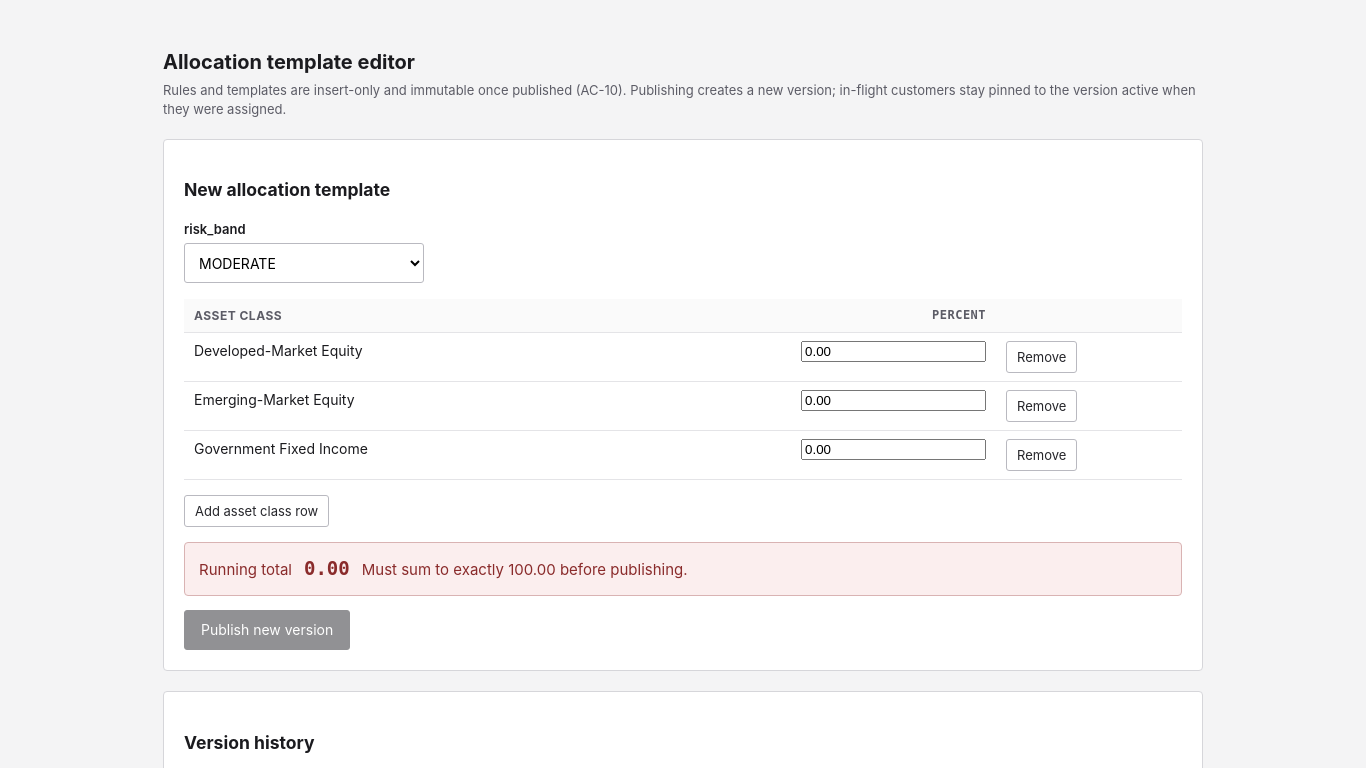
TemplateEditor › publishing a new version refreshes the version-history list via state update, without navigation
Replace the text in the field with test id "allocation-percent-0" with "100.00" at (894, 352), box [801,342,986,362]
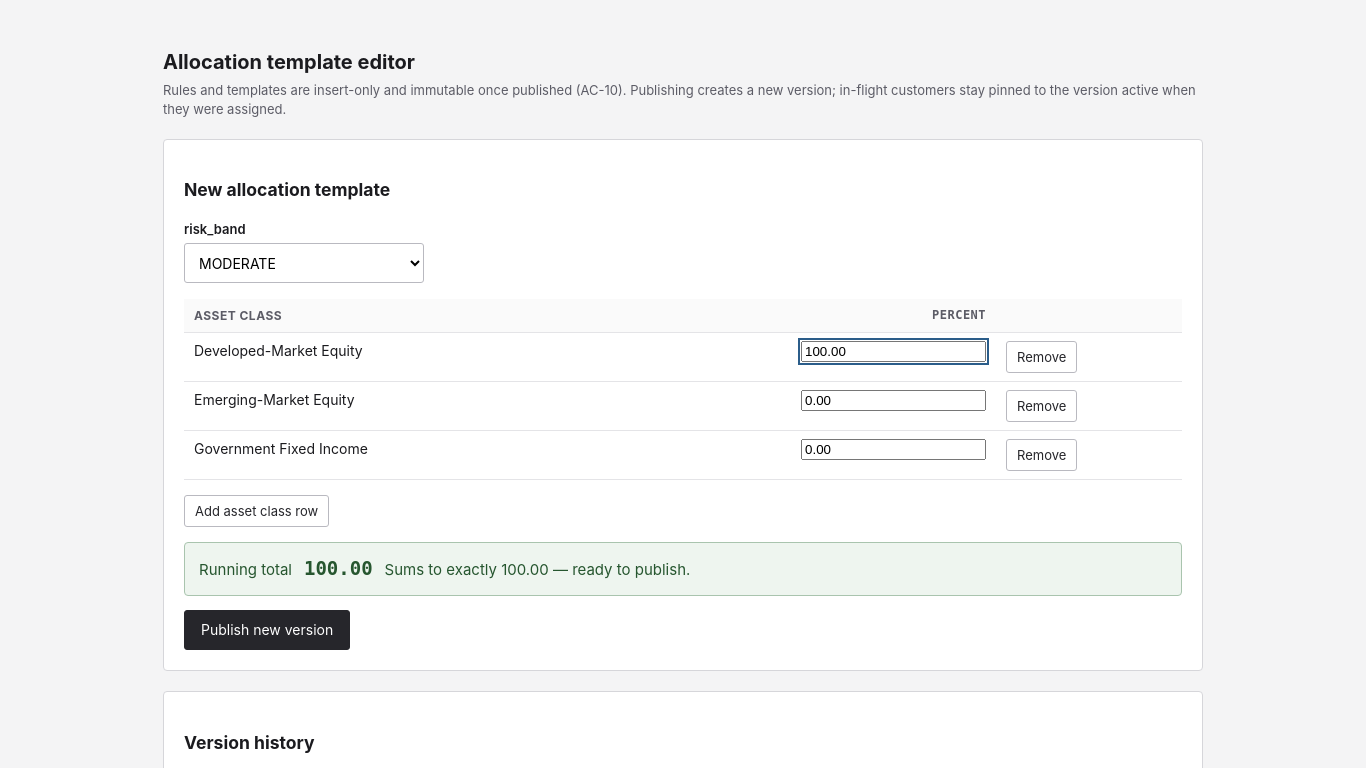
Expected: the button with test id "publish" is enabled
Click the button with test id "publish".
click(267, 630)  # box [184,610,350,650]
(page scrolled)
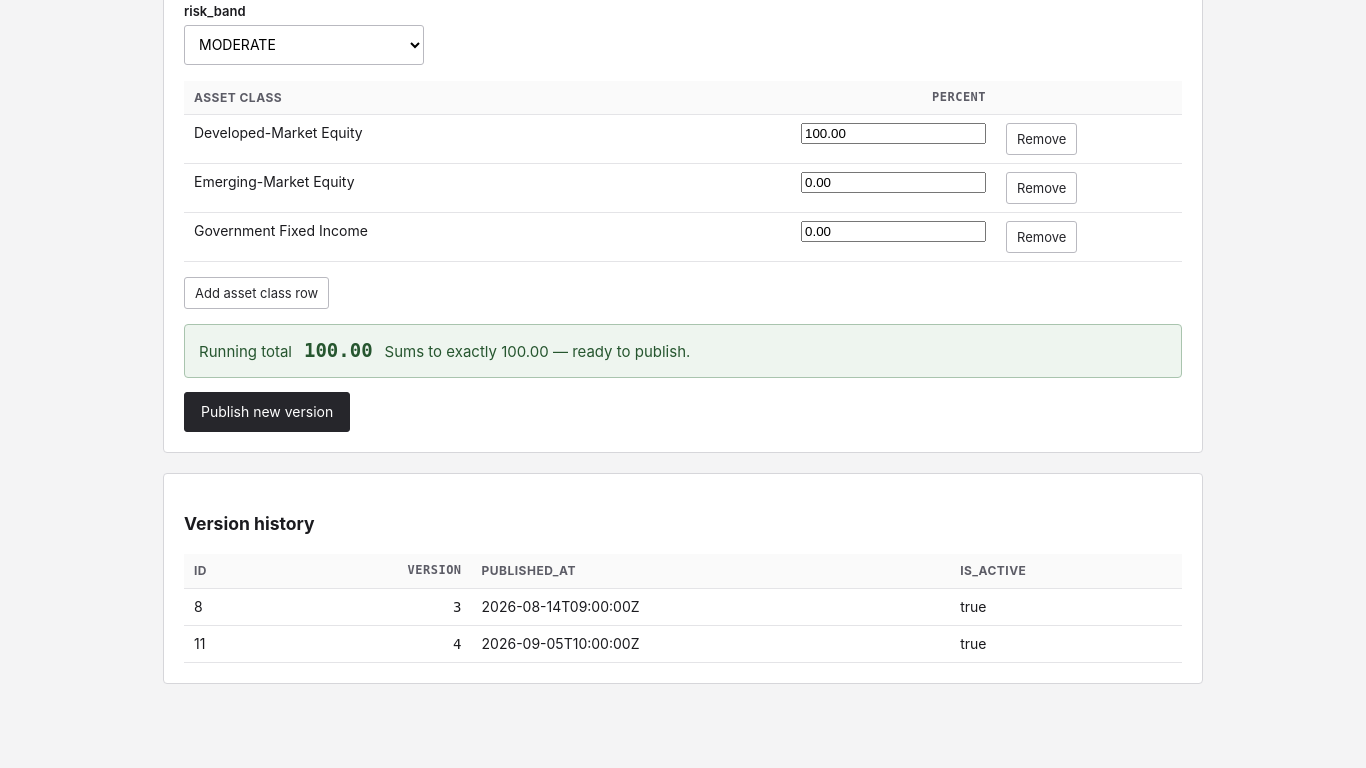
Expected: the text "4" is shown, [273,626,472,663]
